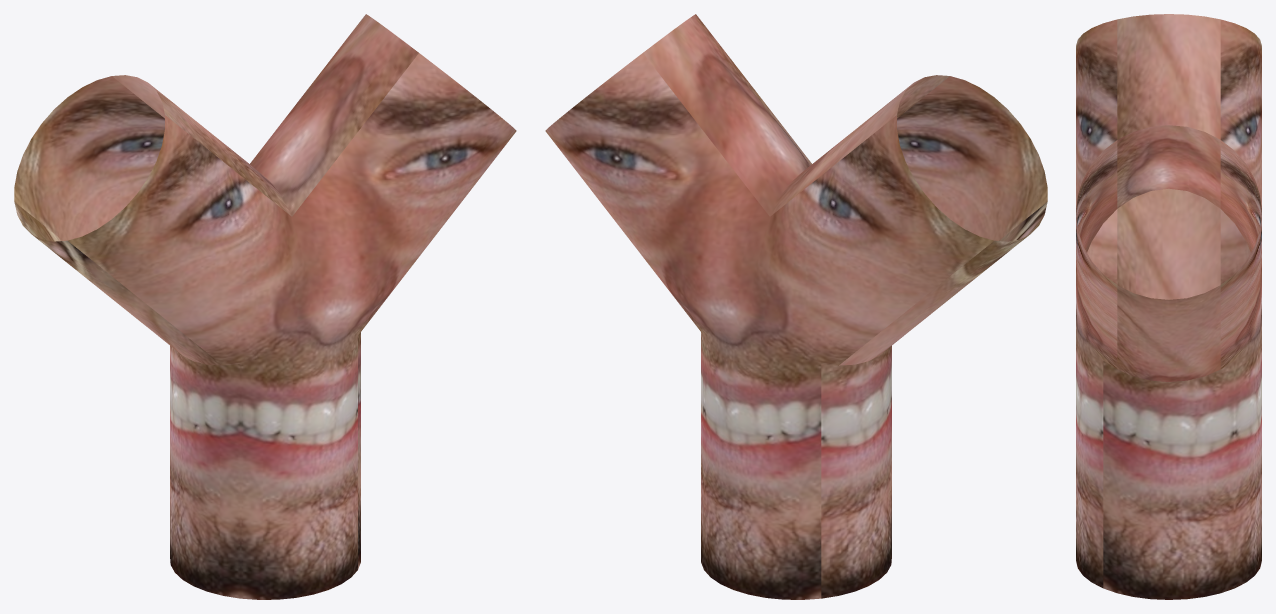
The model's file is kroeger-y-joint.glb.
The picture shows the model from 3 angles, left to right: view 1: azimuth 30°, elevation 25°; view 2: azimuth 150°, elevation 25°; view 3: azimuth 270°, elevation 25°; orthographic projection. The views are drawn at different scales.
Parts seen in each view (by area): view 1: Wye Joint; view 2: Wye Joint; view 3: Wye Joint.
Boxes of the visible parts, <box> form: Wye Joint: <box>14,14,516,599</box>; Wye Joint: <box>545,14,1047,599</box>; Wye Joint: <box>1076,14,1261,599</box>.
Bounding box in the file's own units: 5.66 × 5.83 × 2.
1 material, 1 textured.
